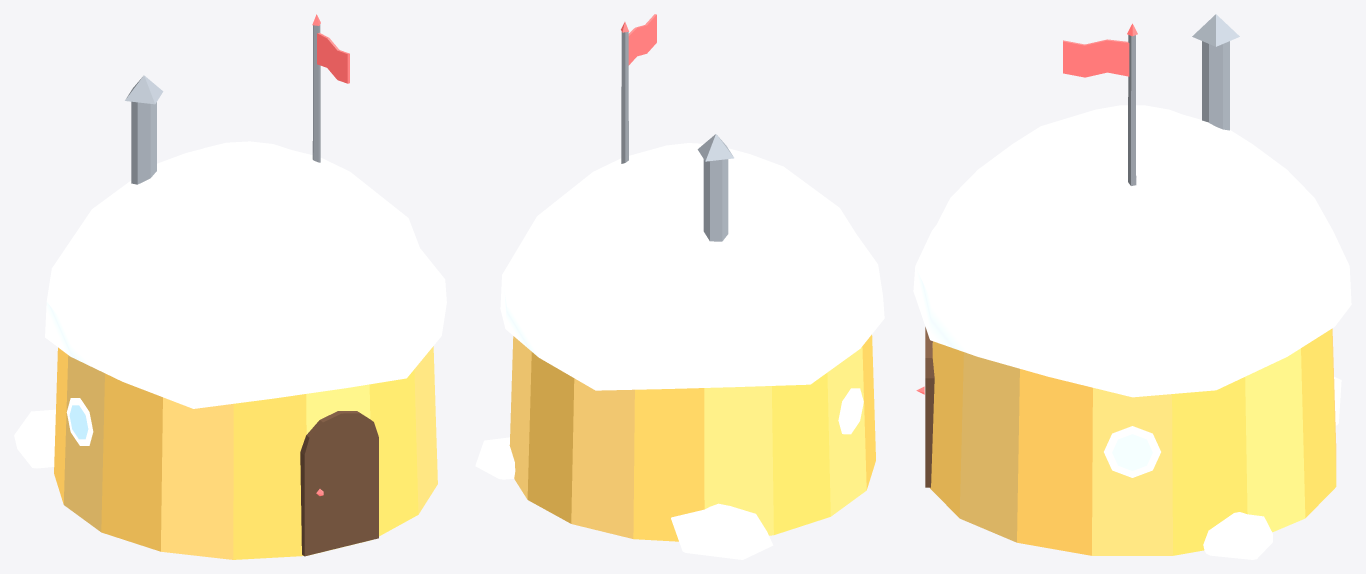
The model's file is ice-hut-b.glb.
The picture shows the model from 3 angles, left to right: view 1: azimuth 30°, elevation 25°; view 2: azimuth 150°, elevation 25°; view 3: azimuth 270°, elevation 25°; orthographic projection. The views are drawn at different scales.
Visible parts, largest first — view 1: ice-hut-b; view 2: ice-hut-b; view 3: ice-hut-b.
Boxes of the visible parts, left/top/right/bottom form: ice-hut-b: left=14, top=14, right=446, bottom=559; ice-hut-b: left=475, top=14, right=884, bottom=559; ice-hut-b: left=913, top=14, right=1351, bottom=559.
Size of the model in its own units: 4.72 by 5.75 by 4.72.
